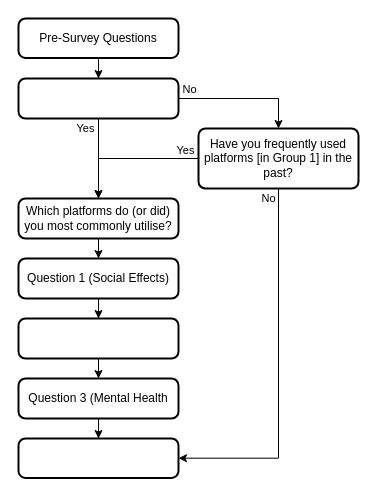
The diagram is 376 pixels wide and 496 high, and some of its shapes have lost their labels. The shapes that lost their labels are listed below. From the top down, each one's centre as x and y in pixels, then its label:
At (98,98): "Do you frequently use platforms [in Group 1]".
At (98,338): "Question 2 (Current Events)".
At (98,457): "Group 2 Section...".
